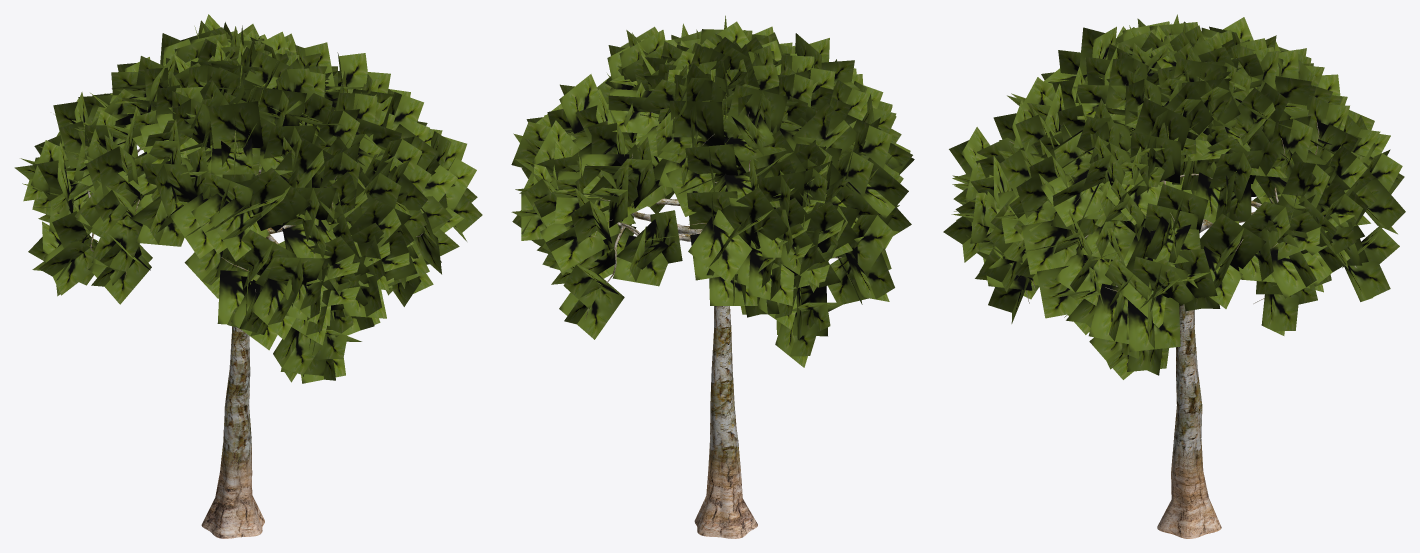
The model's file is Tree_03.fbx.
3 renders of one model, left to right at view 1: azimuth 30°, elevation 25°; view 2: azimuth 150°, elevation 25°; view 3: azimuth 270°, elevation 25°, orthographic.
Parts seen in each view (by area): view 1: tree.001; view 2: tree.001; view 3: tree.001.
Part boxes in pixels (x1,y1,x2,y2): tree.001: (14,14,482,538); tree.001: (511,15,914,538); tree.001: (943,14,1405,538).
Bounding box in the file's own units: 3214 × 3681 × 3116.
